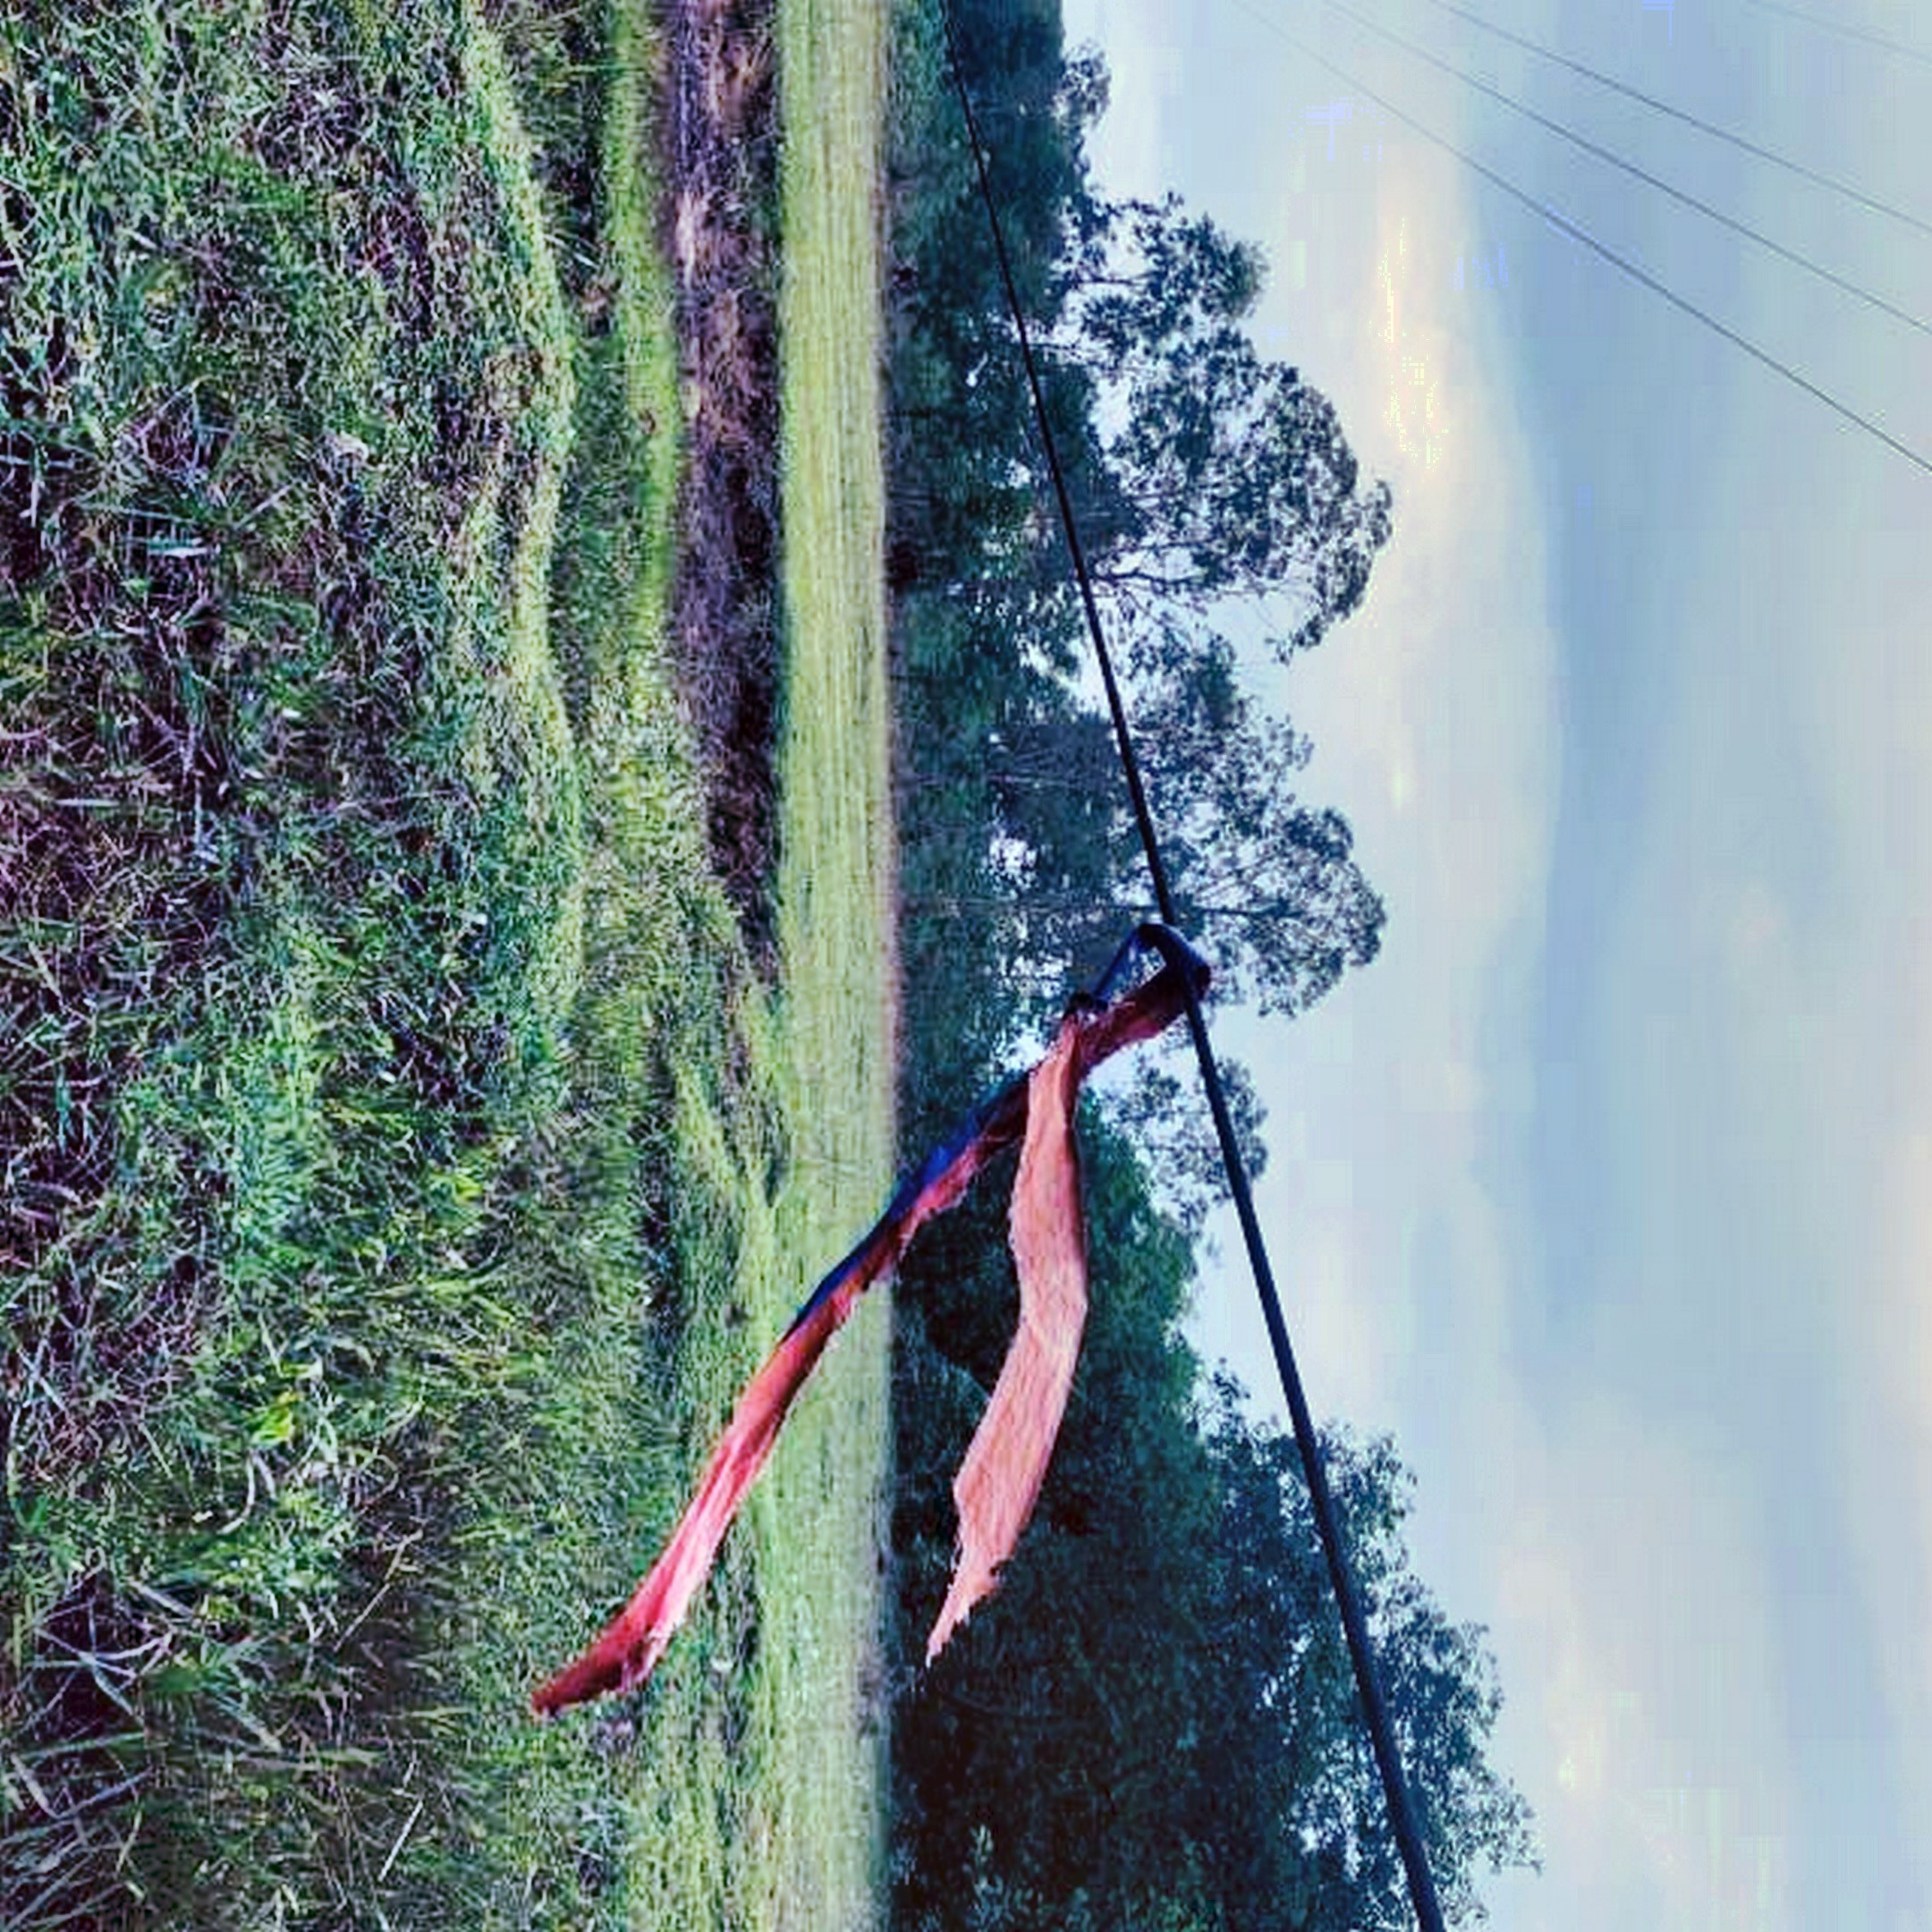wire foreign body: (656, 915, 1261, 1626)
